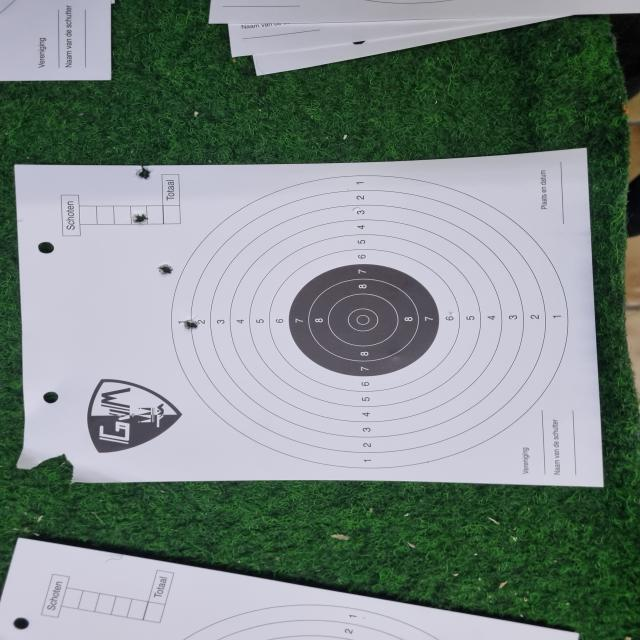0: (134, 168, 154, 180), (132, 213, 148, 224), (158, 264, 173, 275)
2: (184, 319, 198, 330)
Target: (171, 175, 569, 469)
black_contour: (287, 263, 440, 377)
